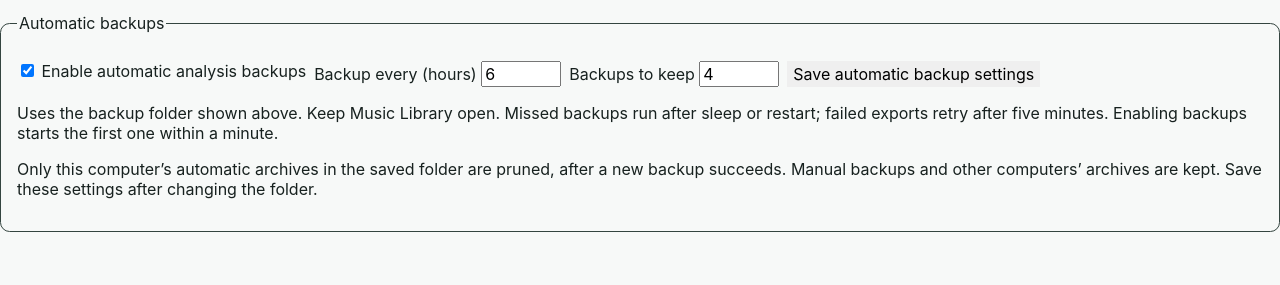
Test: can disable saved automatic backups and retains edits after a failed save
What coordinates should you click on to do the following:
click the checkbox labelled "Enable automatic analysis backups"
I would click on:
 (28, 70)
Its box is [21,64,34,77].
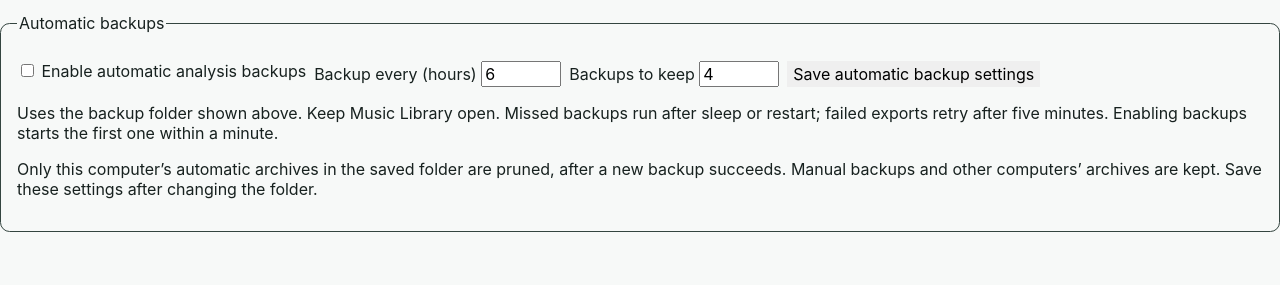
What coordinates should you click on to do the following:
click the button "Save automatic backup settings"
I would click on:
 (914, 74)
Its box is [787,61,1040,87].
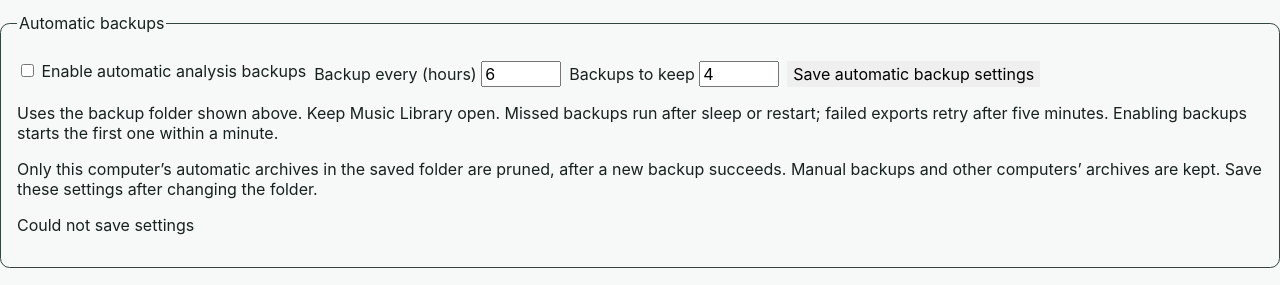
Expected: the number field labelled "Backups to keep" holds "4", [699,61,779,87]
Now the checkbox labelled "Enable automatic analysis backups" is not checked, box [21,64,34,77]
Now the message reads "Could not save settings", box [17,215,194,235]
What coordinates should you click on to do the following:
click the button "Save automatic backup settings"
I would click on:
 (914, 74)
Its box is [787,61,1040,87].
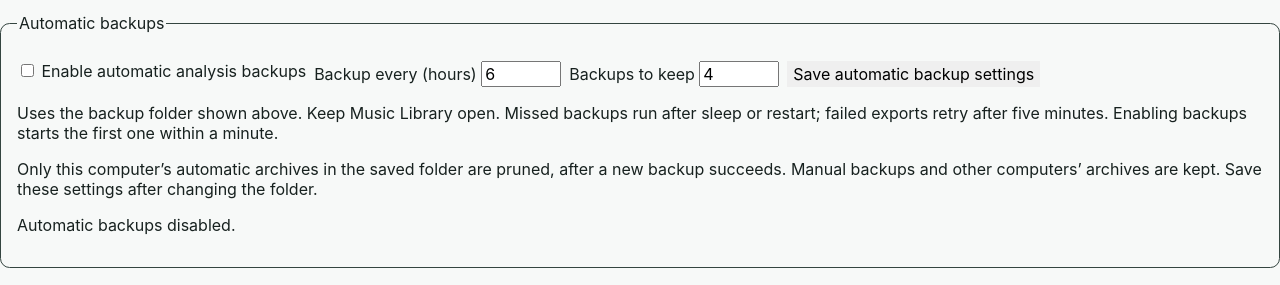
Now the text "Automatic backups disabled." is shown, box [17,215,236,235]
